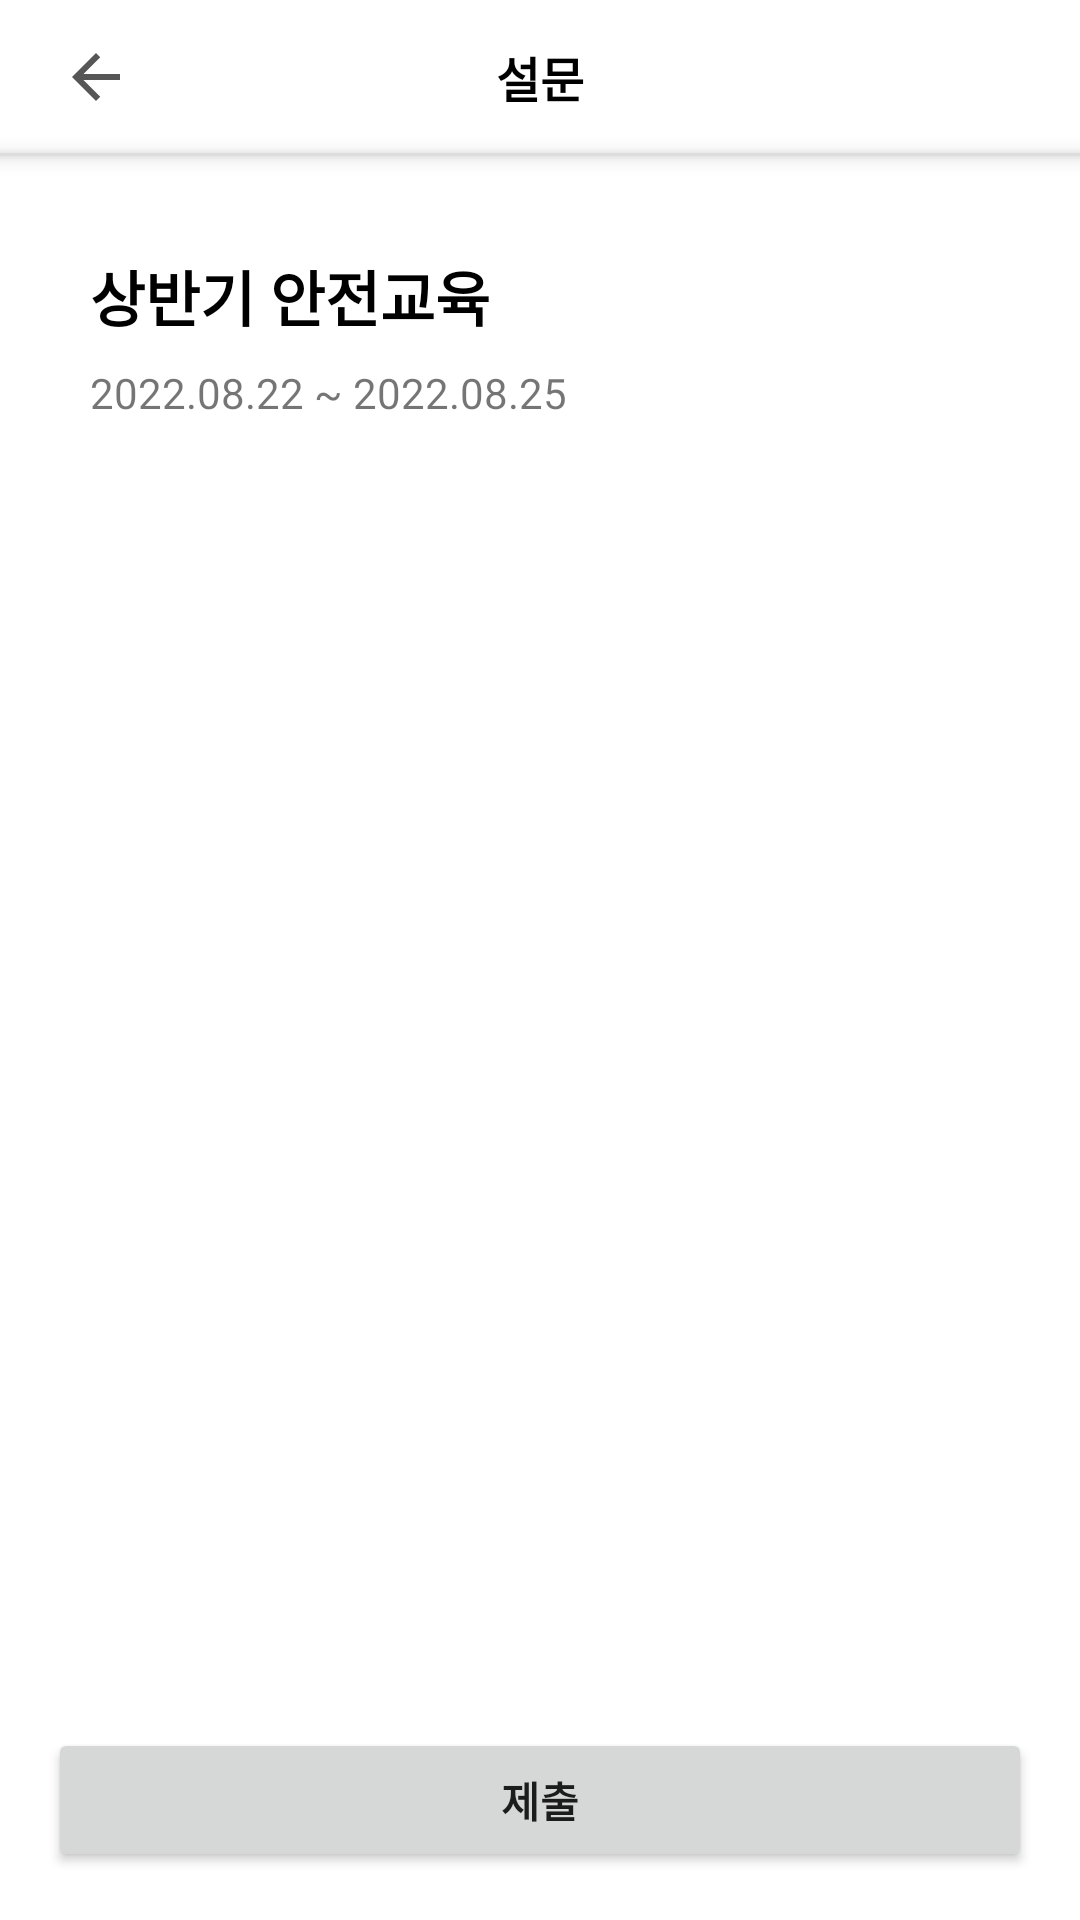

Where icons sit on this 1080*1920 app screen, as (x1, y1, x2, y2):
arrow back: (72, 53, 120, 101)
